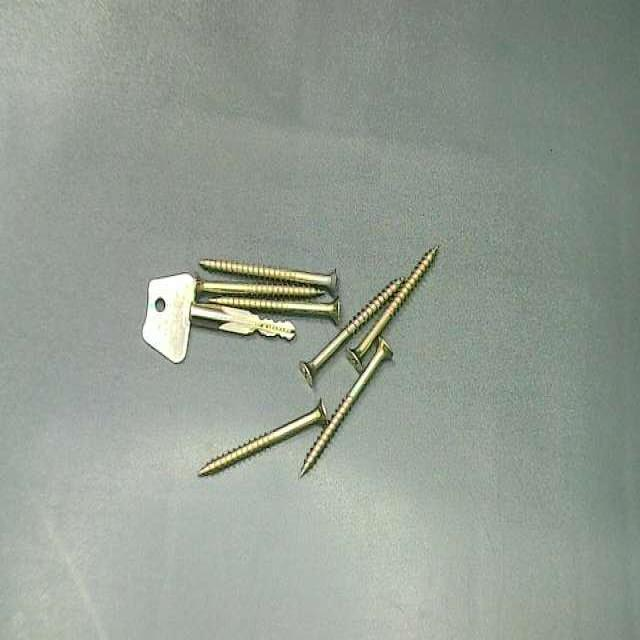Parafuso: (300, 338, 392, 477), (348, 247, 437, 370), (299, 279, 402, 385), (198, 400, 326, 475), (199, 260, 336, 293), (206, 296, 340, 323), (195, 278, 322, 298)
